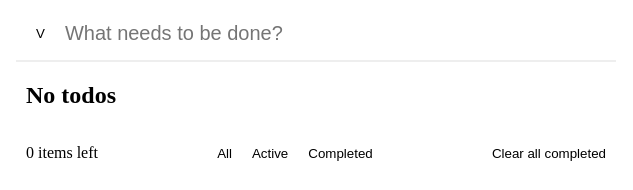
Test: Todos Component › Should filter todos when click filter buttons Completed
The width and height of the screenshot is (633, 190).
Type "Todo 1" into the field with placeholder "What needs to be done?". click: coordinates (330, 34)
box: [55,17,606,50]
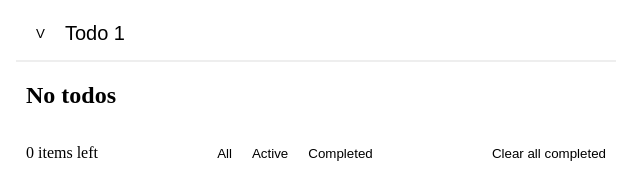
Click the button "V". click: coordinates (40, 34)
box: [26,17,55,50]
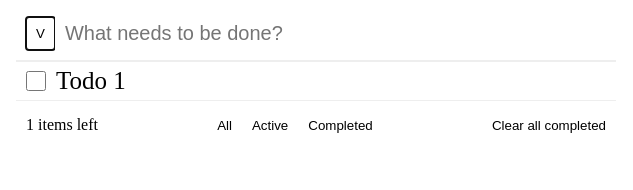
Type "Todo 2" into the field with placeholder "What needs to be done?". click: coordinates (330, 34)
box: [55,17,606,50]
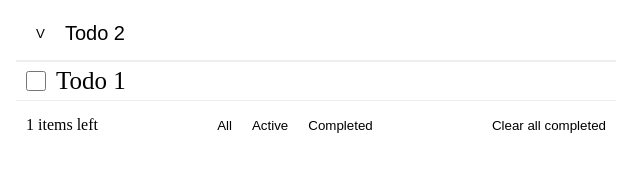
Click the button "V". click: coordinates (40, 34)
box: [26,17,55,50]
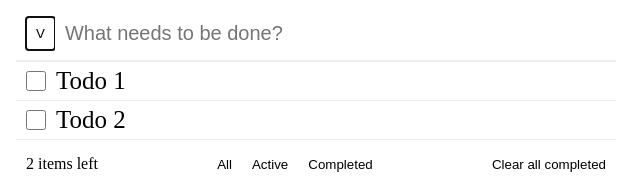
Click the button "Completed". click: coordinates (341, 164)
box: [308,155,373,173]
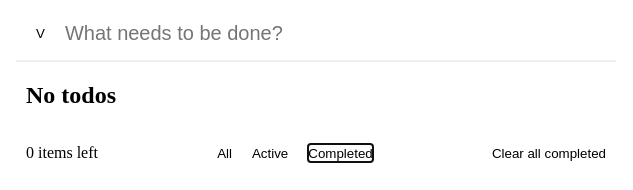
Result: the text "Todo 1" is gone
Result: the text "Todo 2" is gone
